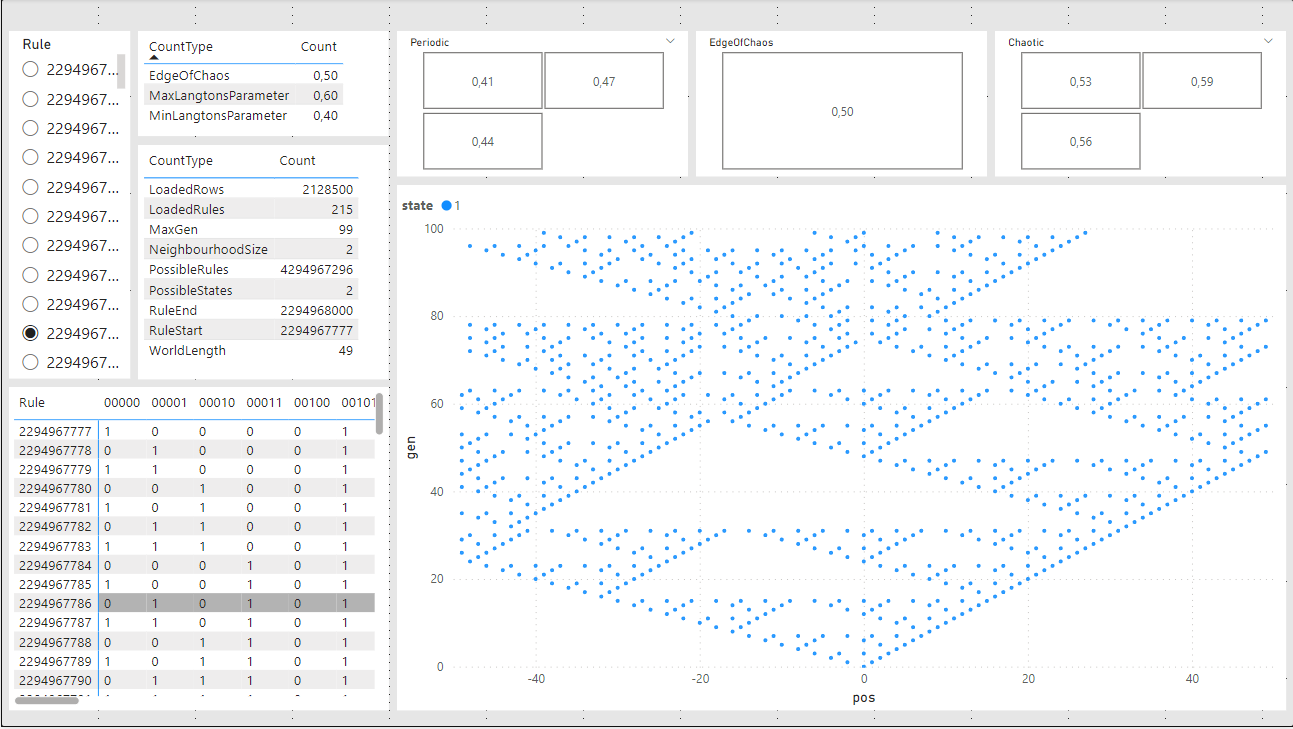

This screenshot's page, from the dashboard's own definition file:
{"tool":"powerbi","page":{"name":"Result","canvas":[1280,720],"ordinal":0},"visuals":[{"type":"scatterChart","fields":{"X":["Sum(NewestWorld.pos)"],"Y":["NewestWorld.gen"],"Series":["NewestWorld.state"]},"box":[392,184,880,520],"z":0},{"type":"slicer","fields":{"Values":["NewestWorld.Rule"]},"box":[8,32,120,344],"z":1000},{"type":"pivotTable","fields":{"Columns":["Rules.Pattern"],"Values":["Min(Rules.NewState)"],"Rows":["Rules.Rule"]},"box":[8,384,376,320],"z":2000},{"type":"slicer","fields":{"Values":["Dic Rules.LangtonsParameter"]},"box":[392,32,288,144],"z":3000},{"type":"slicer","fields":{"Values":["Dic Rules.LangtonsParameter"]},"box":[688,32,288,144],"z":4000},{"type":"slicer","fields":{"Values":["Dic Rules.LangtonsParameter"]},"box":[984,32,288,144],"z":5000},{"type":"tableEx","fields":{"Values":["Stats.CountType","Stats.Count"]},"box":[136,32,248,104],"z":6000},{"type":"tableEx","fields":{"Values":["Stats.CountType","Stats.CountWhole"]},"box":[136,144,248,232],"z":7000}]}

Visuals, with their boxes on the page's 1280x720 design canvas (x1, y1, x2, y2). These are canvas units, not pixel positions in the 1293x729 screenshot, which may show the page scaled, cropped or inside an application window:
scatterChart - Sum(NewestWorld.pos) x NewestWorld.gen: {"left": 392, "top": 184, "right": 1272, "bottom": 704}
slicer - NewestWorld.Rule: {"left": 8, "top": 32, "right": 128, "bottom": 376}
pivotTable - Rules.Pattern x Min(Rules.NewState): {"left": 8, "top": 384, "right": 384, "bottom": 704}
slicer - Dic Rules.LangtonsParameter: {"left": 392, "top": 32, "right": 680, "bottom": 176}
slicer - Dic Rules.LangtonsParameter: {"left": 688, "top": 32, "right": 976, "bottom": 176}
slicer - Dic Rules.LangtonsParameter: {"left": 984, "top": 32, "right": 1272, "bottom": 176}
tableEx - Stats.CountType x Stats.Count: {"left": 136, "top": 32, "right": 384, "bottom": 136}
tableEx - Stats.CountType x Stats.CountWhole: {"left": 136, "top": 144, "right": 384, "bottom": 376}
